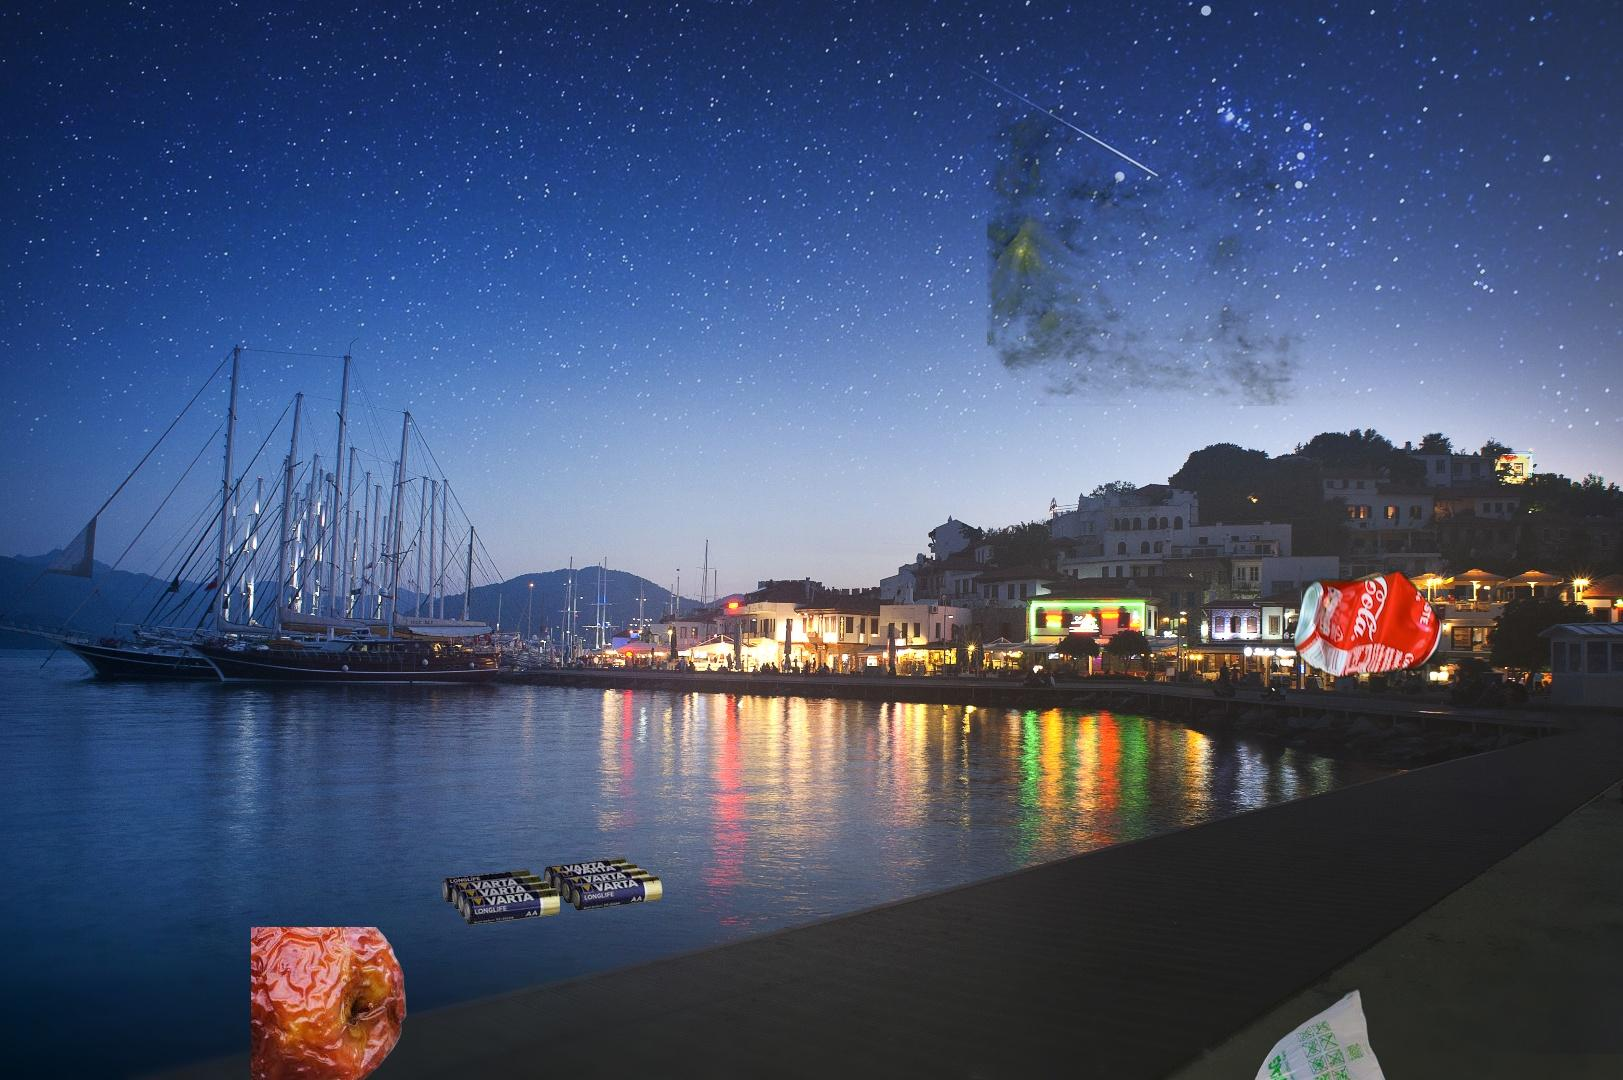battery: (440, 855, 665, 928)
biological: (987, 106, 1471, 406), (251, 927, 410, 1080)
metal-cans: (1288, 564, 1447, 683)
plastic-bag: (1249, 985, 1404, 1080)
